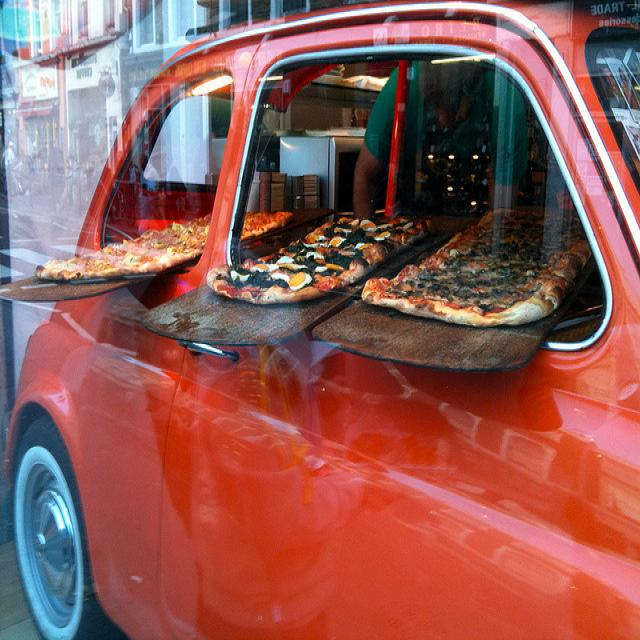Vehicle: (10, 3, 634, 630)
